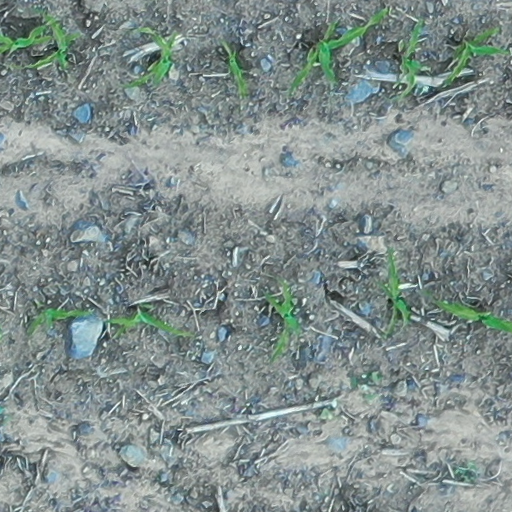planta: (292, 10, 387, 89), (122, 26, 179, 89), (445, 29, 506, 83), (24, 15, 81, 68), (267, 280, 300, 362), (382, 251, 410, 334), (108, 313, 192, 338), (401, 23, 422, 97), (30, 309, 88, 331), (223, 41, 246, 95)
